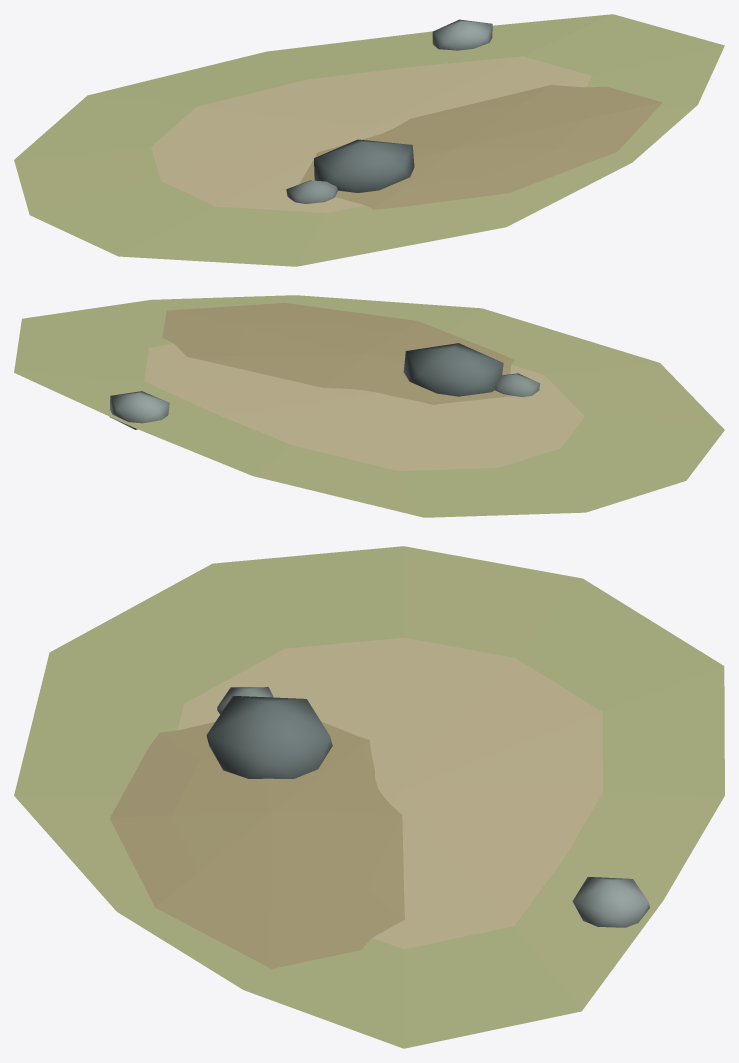
The model's file is gc_shore_b.glb.
3 renders of one model, top to bottom at view 1: azimuth 30°, elevation 25°; view 2: azimuth 150°, elevation 25°; view 3: azimuth 270°, elevation 25°, orthographic. The views are drawn at different scales.
Visible parts, largest first — view 1: body_nh, body; view 2: body_nh, body; view 3: body_nh, body.
Boxes of the visible parts, bbox=[...] form: body_nh: bbox=[14, 14, 724, 266]; body: bbox=[286, 19, 492, 203]; body_nh: bbox=[14, 295, 724, 517]; body: bbox=[109, 343, 540, 429]; body_nh: bbox=[14, 546, 724, 1048]; body: bbox=[206, 687, 649, 927].
Bounding box in the file's own units: 1.98 × 0.1541 × 1.18.
